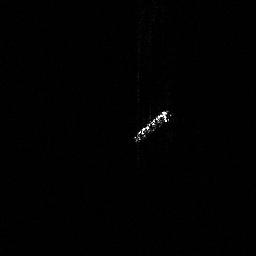ship: (130, 107, 174, 145)
